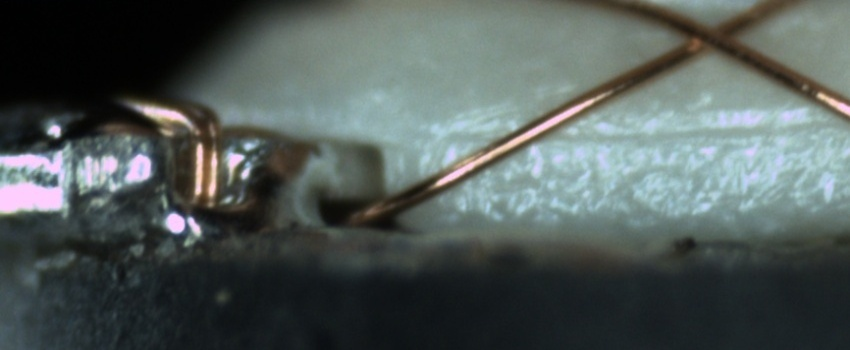CL: (666, 4, 759, 64)
DL: (416, 102, 849, 166)
TE: (105, 87, 224, 221)
